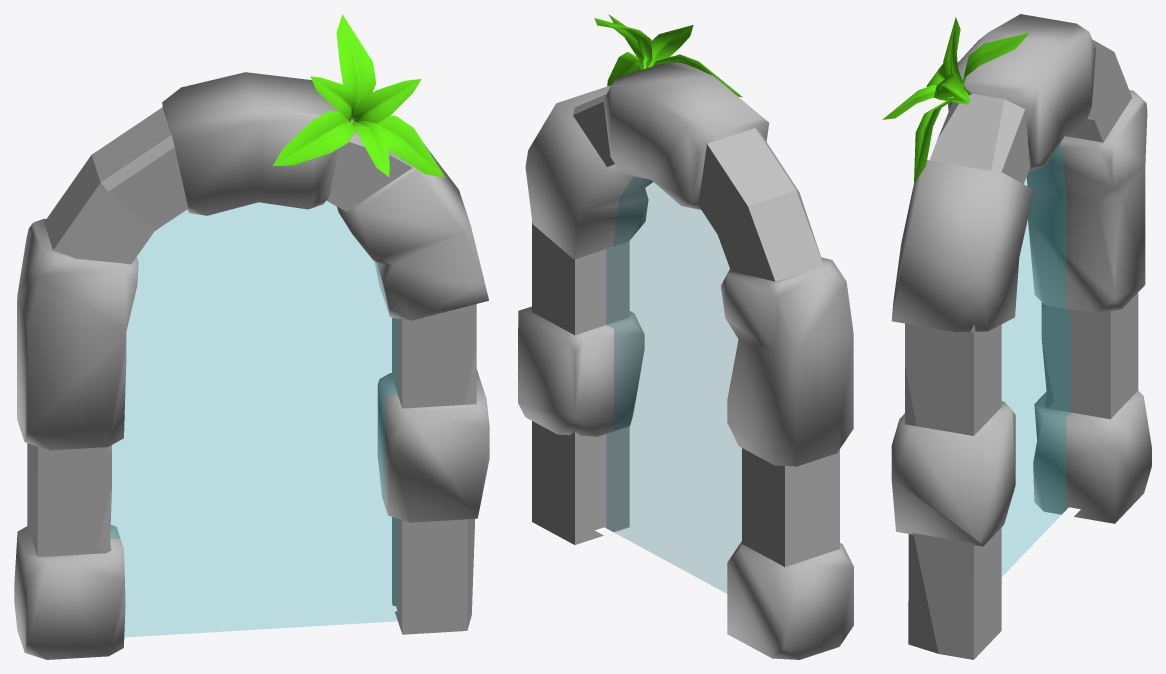
The model's file is portalShort.glb.
3 renders of one model, left to right at view 1: azimuth 30°, elevation 25°; view 2: azimuth 150°, elevation 25°; view 3: azimuth 270°, elevation 25°, orthographic. The views are drawn at different scales.
Parts seen in each view (by area): view 1: Plane.003, Plane.001, Plane, Plane.009, Plane.011; view 2: Plane.001, Plane.003, Plane, Plane.009, Plane.011; view 3: Plane.001, Plane, Plane.003, Plane.009, Plane.011.
Boxes of the visible parts, left/top/right/bottom form: Plane.003: left=110, top=201, right=397, bottom=636; Plane.001: left=14, top=72, right=489, bottom=659; Plane: left=27, top=107, right=476, bottom=634; Plane.009: left=273, top=14, right=445, bottom=177; Plane.011: left=124, top=606, right=397, bottom=627; Plane.001: left=518, top=62, right=853, bottom=659; Plane.003: left=606, top=176, right=741, bottom=592; Plane: left=532, top=94, right=839, bottom=567; Plane.009: left=594, top=14, right=742, bottom=97; Plane.011: left=595, top=527, right=727, bottom=601; Plane.001: left=891, top=14, right=1151, bottom=546; Plane: left=905, top=39, right=1138, bottom=659; Plane.003: left=1002, top=143, right=1070, bottom=575; Plane.009: left=882, top=17, right=1029, bottom=183; Plane.011: left=1001, top=507, right=1080, bottom=591.
Size of the model in its own units: 3.19 by 4.42 by 1.86.
